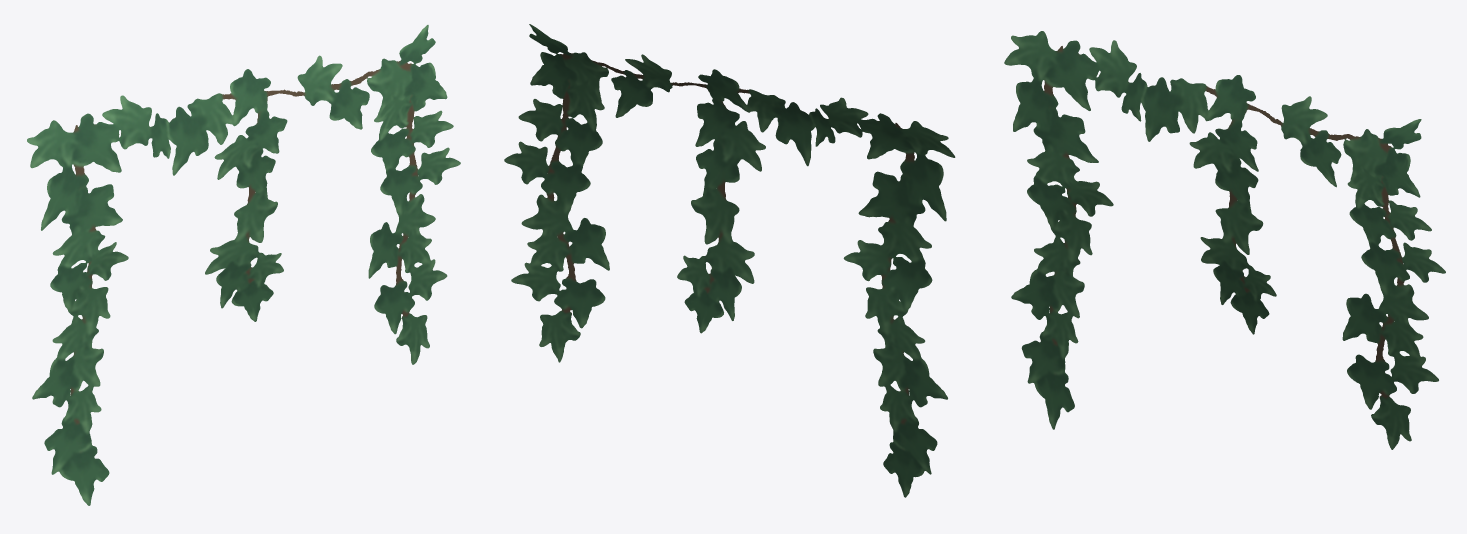
Rendered from Vines.fbx.
3 renders of one model, left to right at view 1: azimuth 30°, elevation 25°; view 2: azimuth 150°, elevation 25°; view 3: azimuth 330°, elevation 25°, orthographic. The views are drawn at different scales.
Visible parts, largest first — view 1: Vines; view 2: Vines; view 3: Vines.
Boxes of the visible parts, x1,y1,x2,y2 form: Vines: (27,25,460,505); Vines: (504,24,955,497); Vines: (1004,31,1445,449).
Bounding box in the file's own units: 109 × 92.44 × 16.25.
